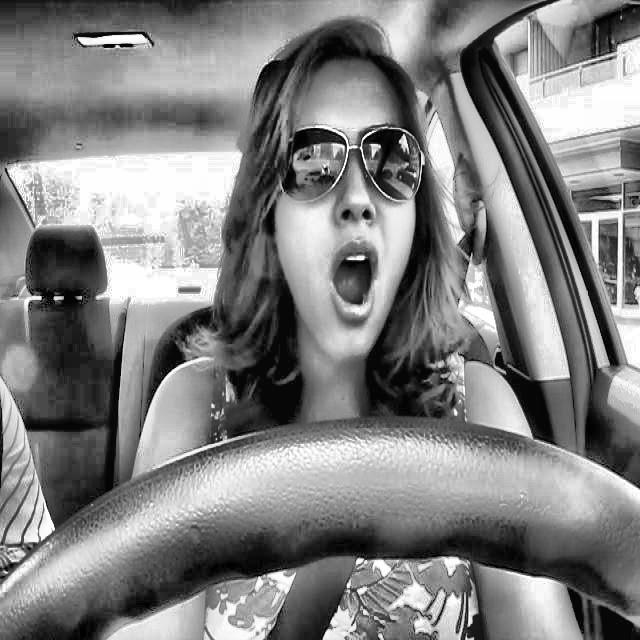open_mouth: (307, 229, 403, 336)
